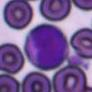L: (25, 24, 69, 70)
